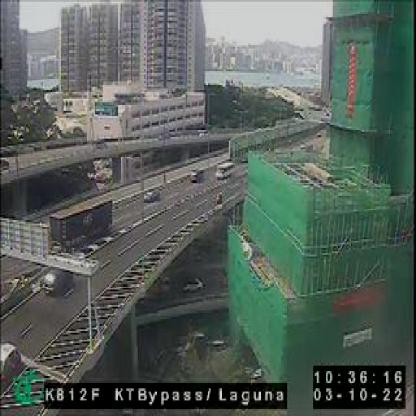Bus: (217, 160, 231, 178)
Car: (42, 267, 70, 295), (143, 187, 157, 201), (190, 166, 201, 178)
Truck: (51, 196, 110, 249)
